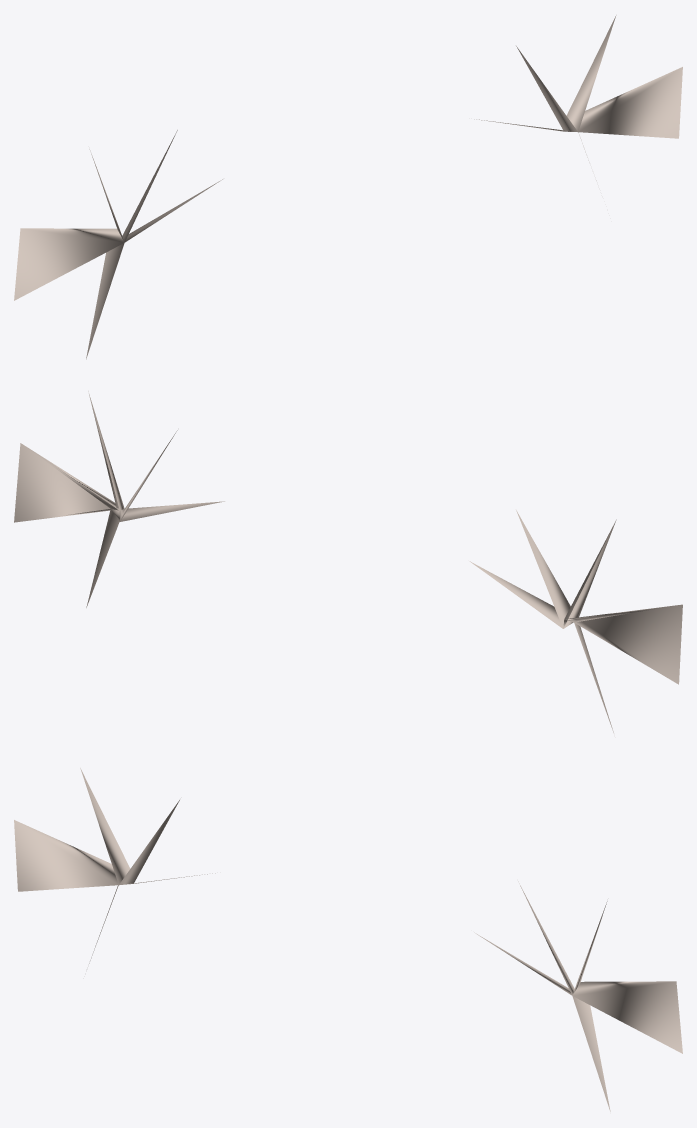
File: m_jet_154717fe.glb
The picture shows the model from 3 angles, top to bottom: view 1: azimuth 30°, elevation 25°; view 2: azimuth 150°, elevation 25°; view 3: azimuth 330°, elevation 25°; orthographic projection.
Visible parts, largest first — view 1: mesh; view 2: mesh; view 3: mesh.
Boxes of the visible parts, box(x1,y1,x2,y2) form: mesh: box(14, 15, 682, 359); mesh: box(14, 391, 682, 732); mesh: box(14, 768, 682, 1111).
Size of the model in its own units: 2648 by 833 by 71.
